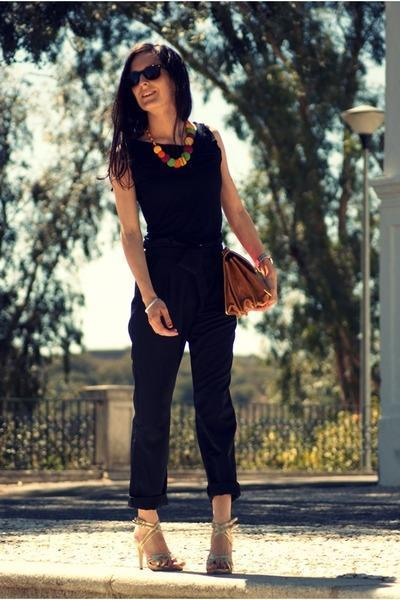bag: (222, 247, 273, 323)
pants: (121, 284, 242, 512)
shirt: (132, 117, 226, 324)
shoe: (156, 549, 246, 577)
sunglass: (121, 52, 160, 83)
